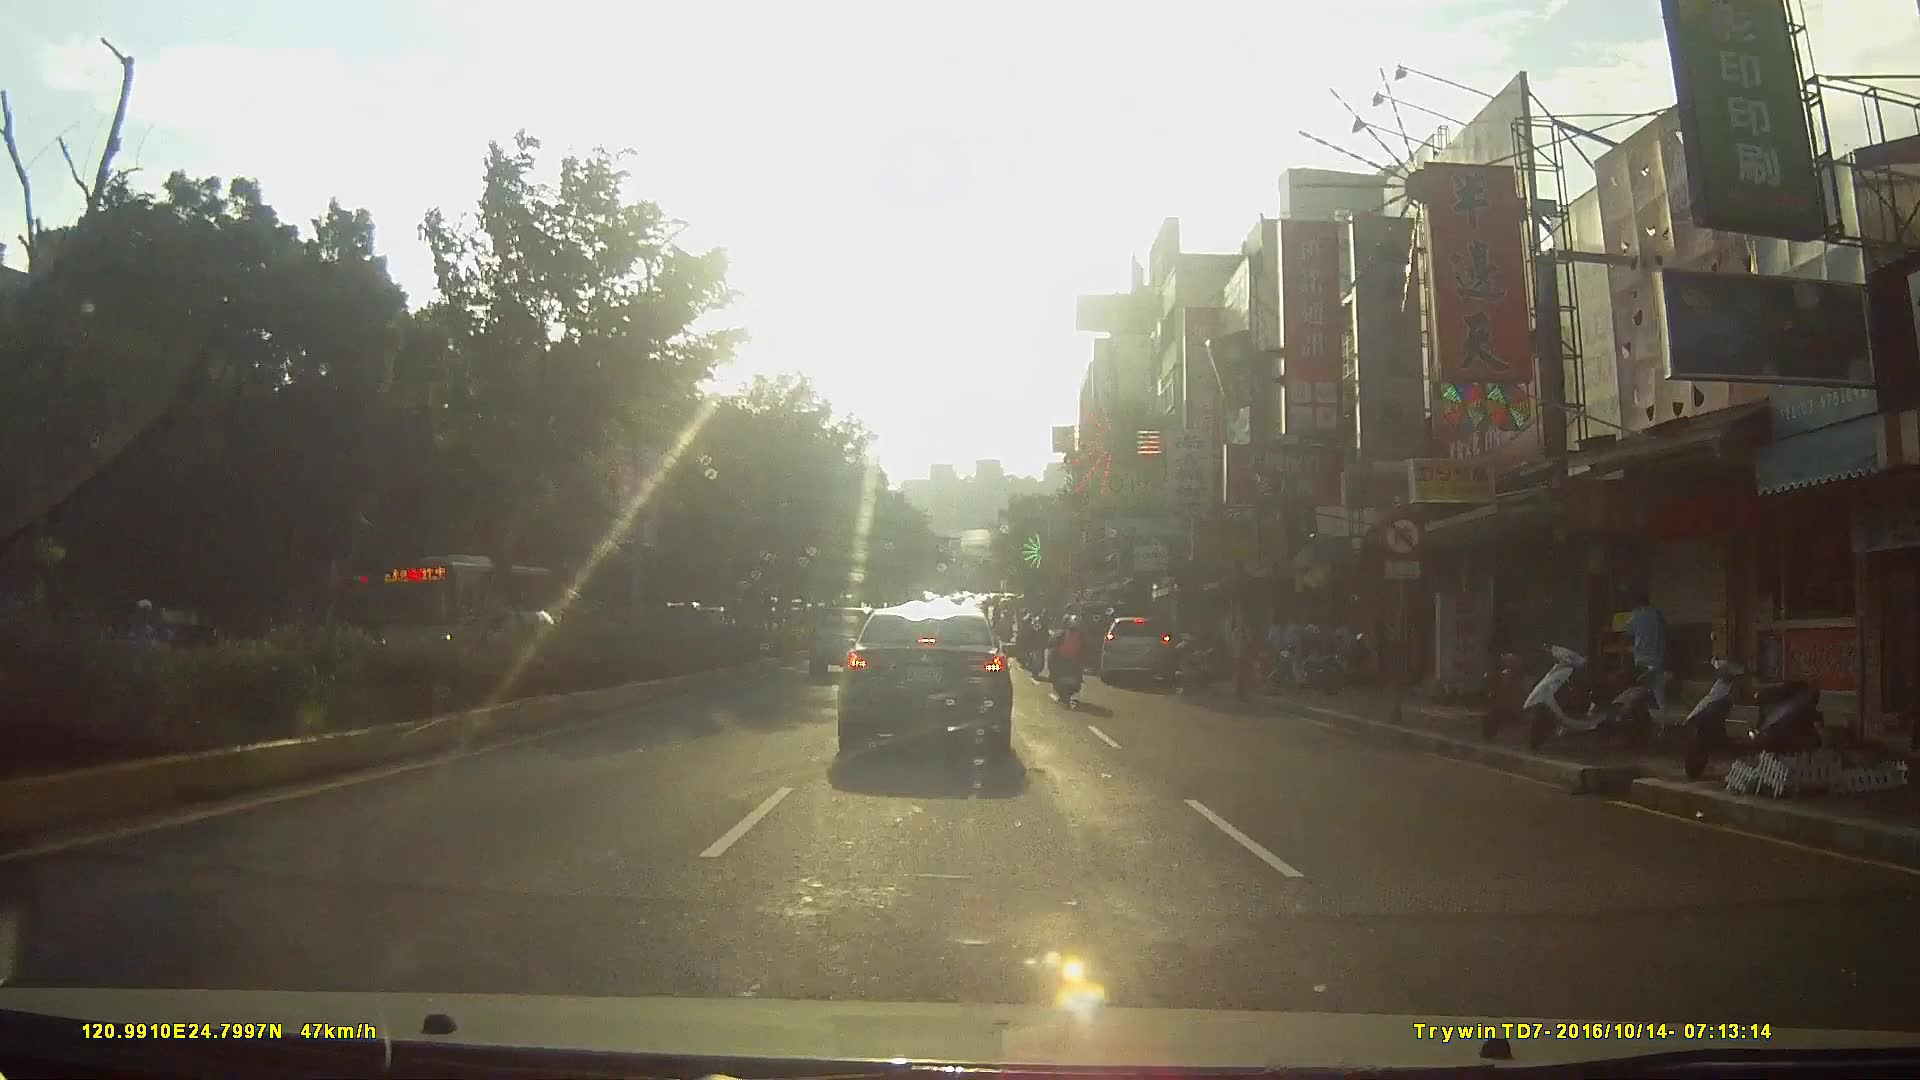pedestrian: (1614, 585, 1667, 710)
rider: (1053, 607, 1098, 704), (1020, 610, 1051, 681)
vehicle: (834, 589, 1032, 759), (365, 548, 562, 650), (1100, 607, 1187, 693)
